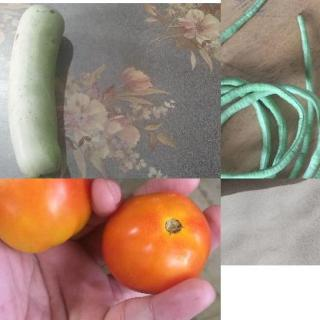Tomat: (104, 185, 214, 297), (1, 179, 95, 261)
